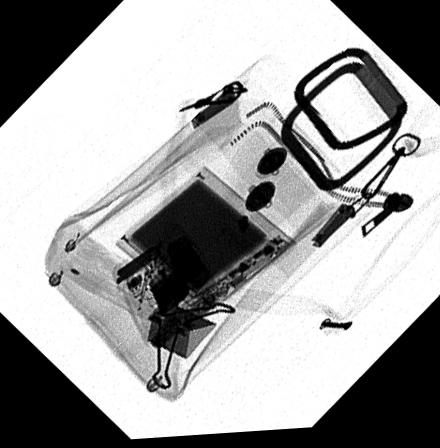Powerbank: (115, 166, 297, 325)
